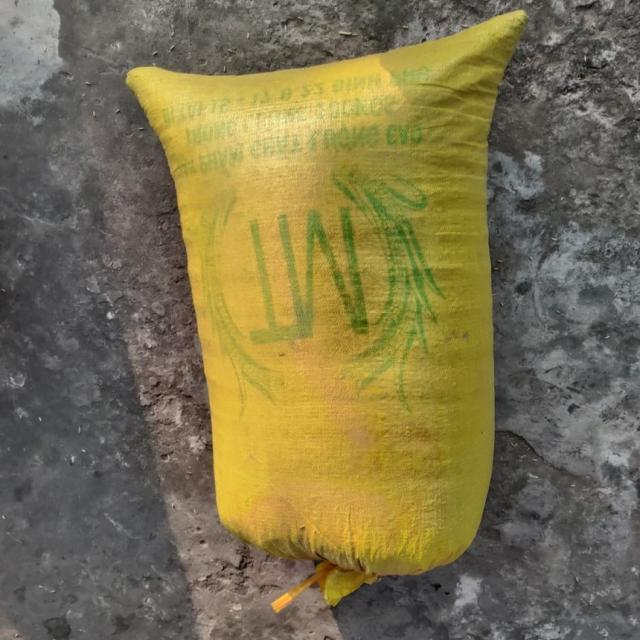gunny_bag: (127, 10, 528, 606)
